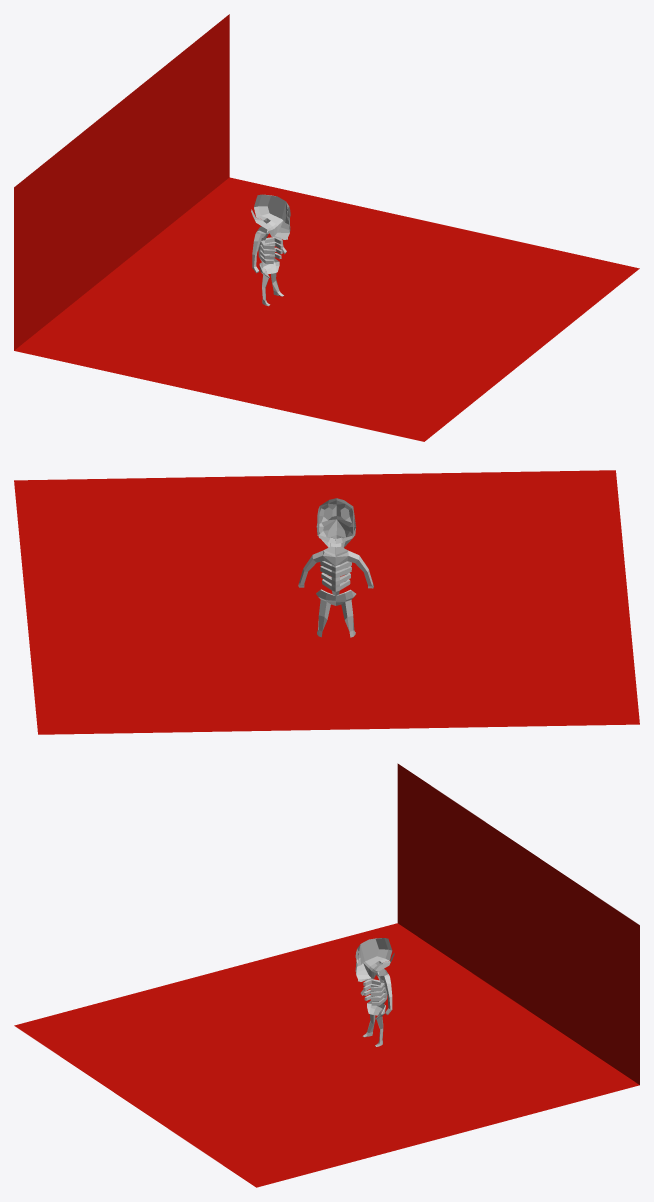
File: robot2.glb
3 views of the same model, one above another, from view 1: azimuth 30°, elevation 25°; view 2: azimuth 150°, elevation 25°; view 3: azimuth 270°, elevation 25° (orthographic). The views are drawn at different scales.
Parts seen in each view (by area): view 1: Plane, Circle; view 2: Plane, Circle; view 3: Plane, Circle.
Part boxes in pixels (bbox=[...]): Plane: bbox=[14, 14, 639, 441]; Circle: bbox=[251, 194, 290, 306]; Plane: bbox=[14, 470, 639, 734]; Circle: bbox=[298, 498, 373, 637]; Plane: bbox=[14, 763, 639, 1187]; Circle: bbox=[355, 938, 394, 1046].
Bounding box in the file's own units: 3252 × 917 × 3252.
